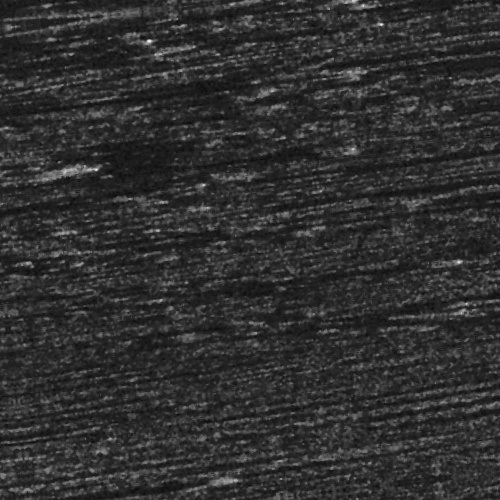object: (377, 328, 460, 339), (399, 277, 492, 286), (138, 469, 201, 478), (154, 34, 217, 43), (333, 80, 374, 85)
shadow: (99, 328, 418, 339), (174, 217, 500, 224), (249, 227, 500, 236), (208, 277, 445, 286), (307, 199, 500, 210), (0, 469, 170, 478), (20, 34, 185, 43), (385, 172, 500, 183), (413, 326, 500, 333), (273, 80, 353, 85), (468, 290, 500, 295)
